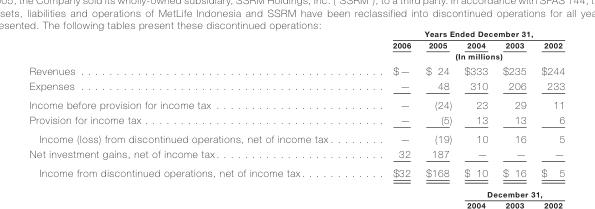table: (28, 28, 564, 178)
table column: (28, 28, 362, 178), (362, 28, 417, 178), (417, 28, 457, 178), (494, 28, 533, 178), (457, 28, 494, 178), (533, 28, 564, 178)
table column header: (28, 28, 564, 62)
table row: (28, 111, 564, 129), (28, 77, 564, 94), (28, 94, 564, 111), (28, 129, 564, 146), (28, 146, 564, 163), (28, 62, 564, 77), (28, 163, 564, 178), (28, 38, 564, 50), (28, 50, 564, 62), (28, 28, 564, 38)
table spanning cell: (362, 50, 564, 62), (362, 28, 564, 38)
